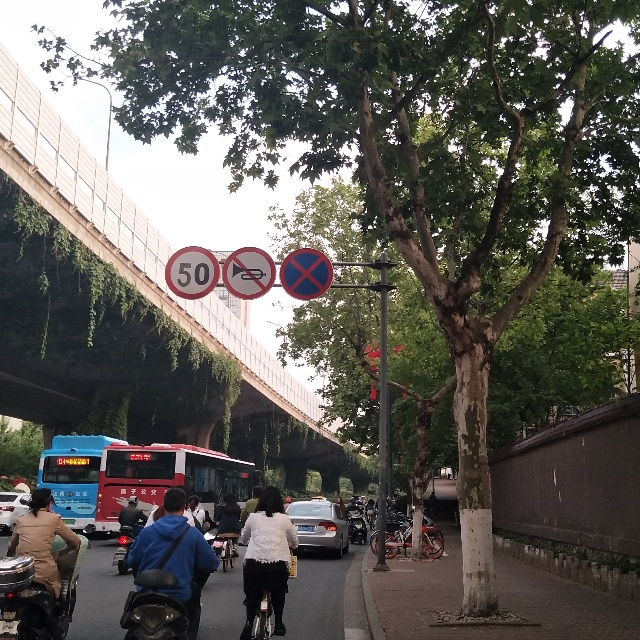nohonk: (221, 246, 274, 299)
stop: (285, 246, 331, 299)
